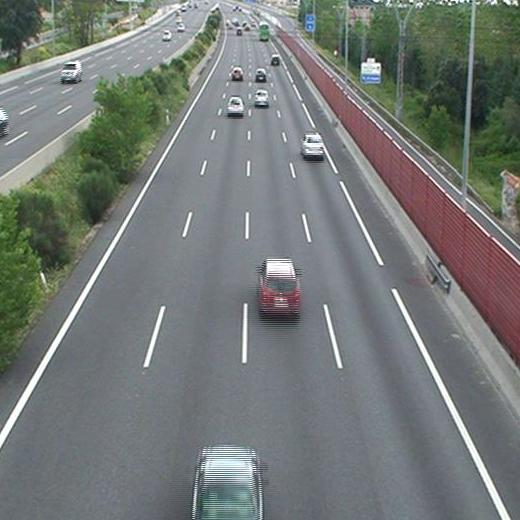bus: (259, 24, 269, 40)
car: (191, 448, 263, 520), (258, 260, 300, 313), (301, 134, 324, 157), (228, 97, 243, 113), (255, 90, 269, 105), (255, 69, 267, 81), (233, 68, 243, 79), (272, 56, 280, 65)
